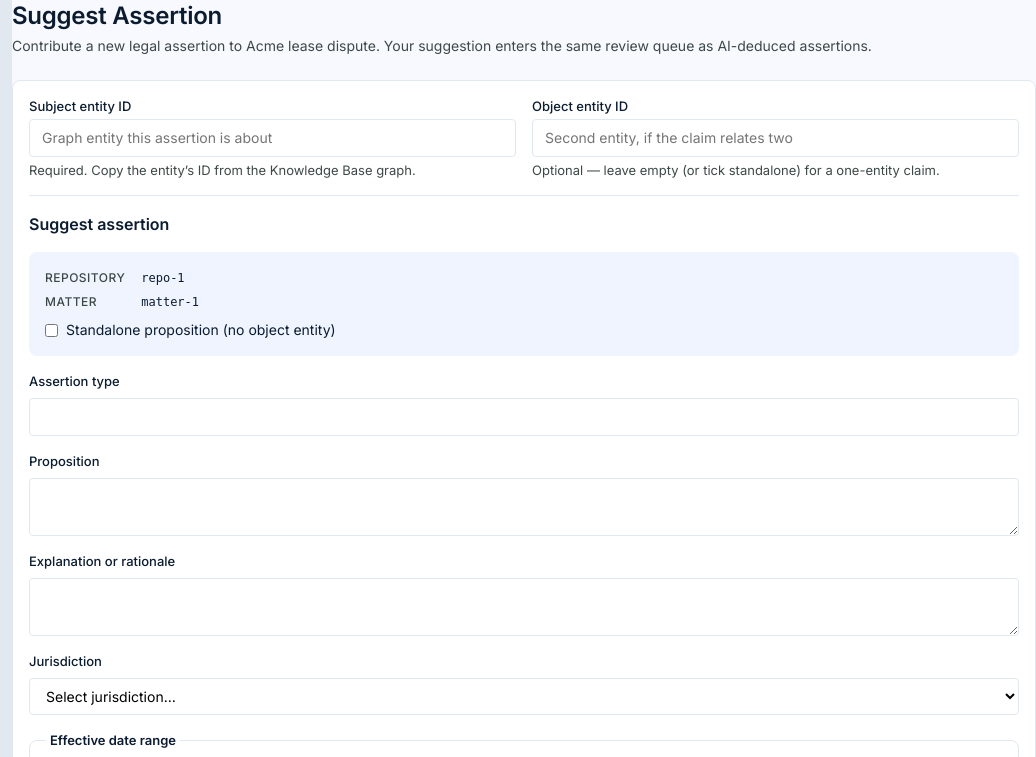
SuggestAssertionPage › shows the backend validation message when the create is rejected
Type "ent-9" into the field labelled "Subject entity ID" at x=272, y=138, box [29, 119, 516, 157]
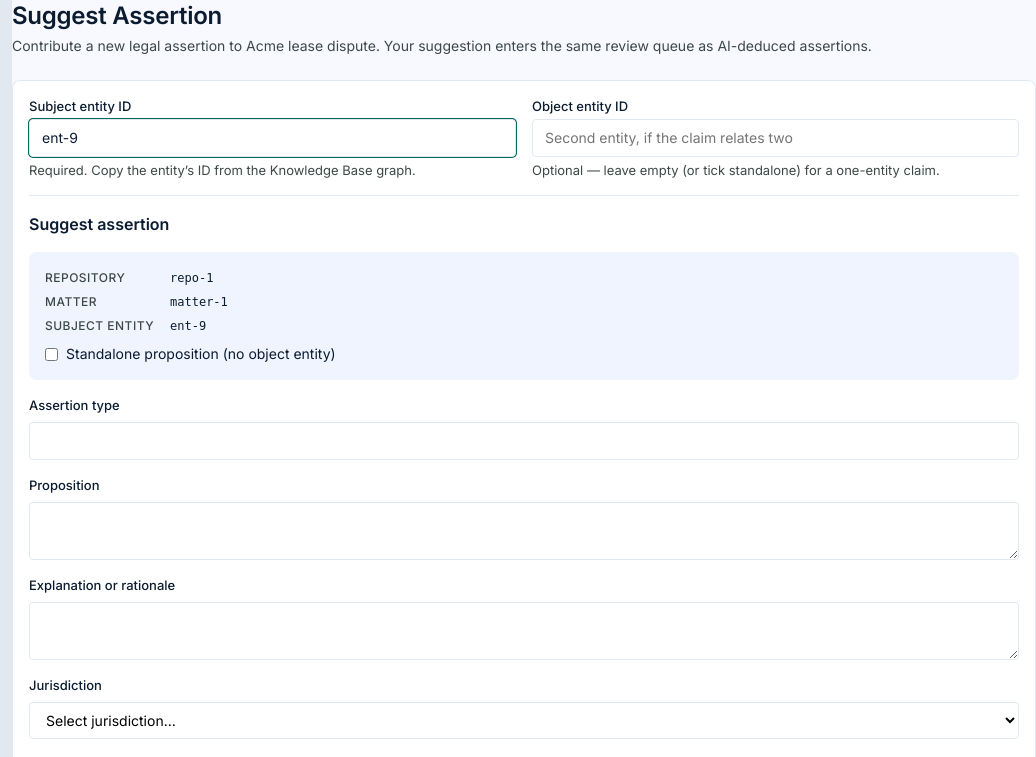
Type "APPLIES_TO" into the field labelled "Assertion type" at x=524, y=441, box [29, 422, 1019, 460]
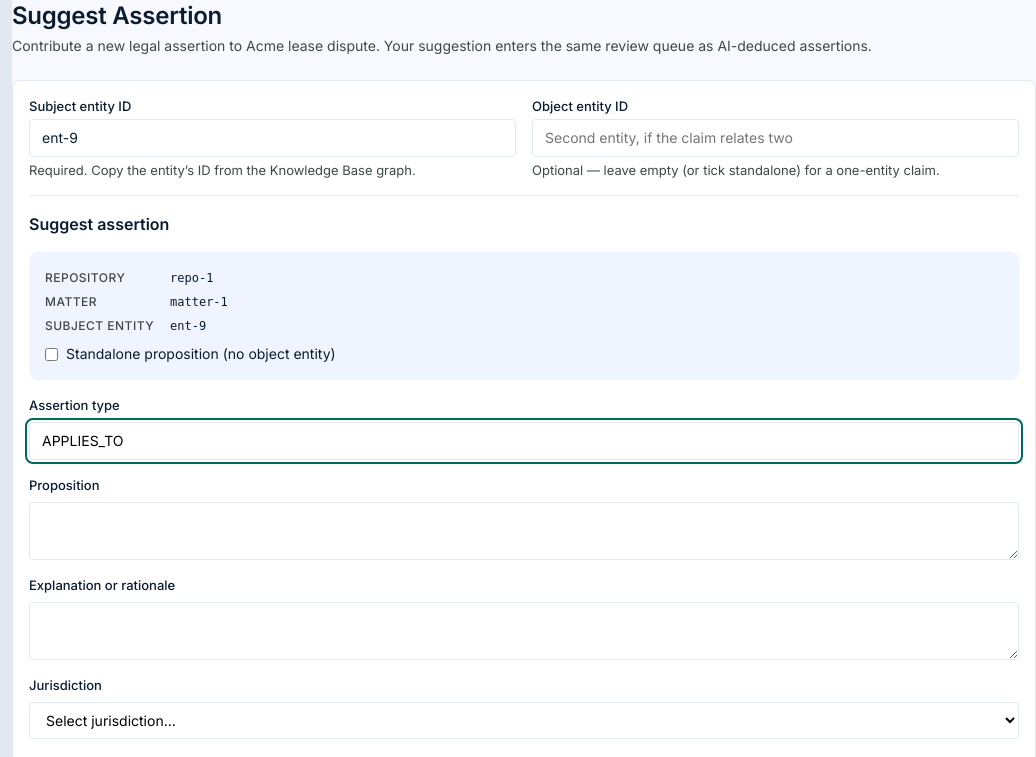
Type "Section 12 applies to subtenants." into the text box labelled "Proposition" at x=524, y=531, box [29, 502, 1019, 560]
(page scrolled)
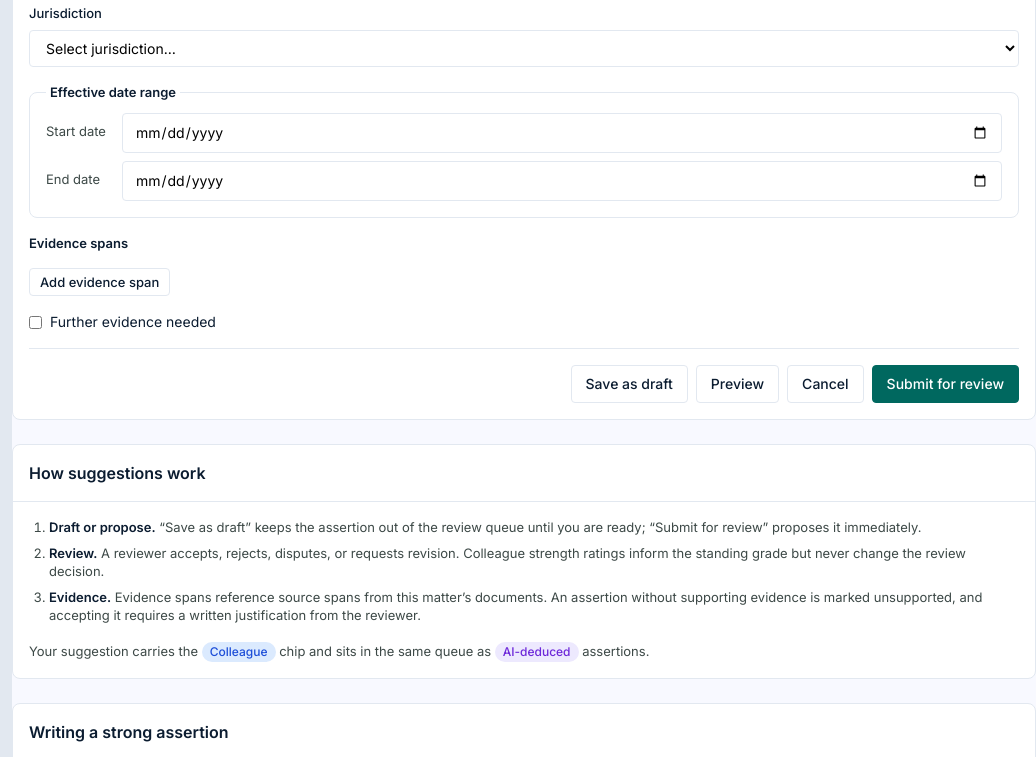
Click the button "Save as draft" at x=629, y=384, box [571, 365, 688, 403]
(page scrolled)
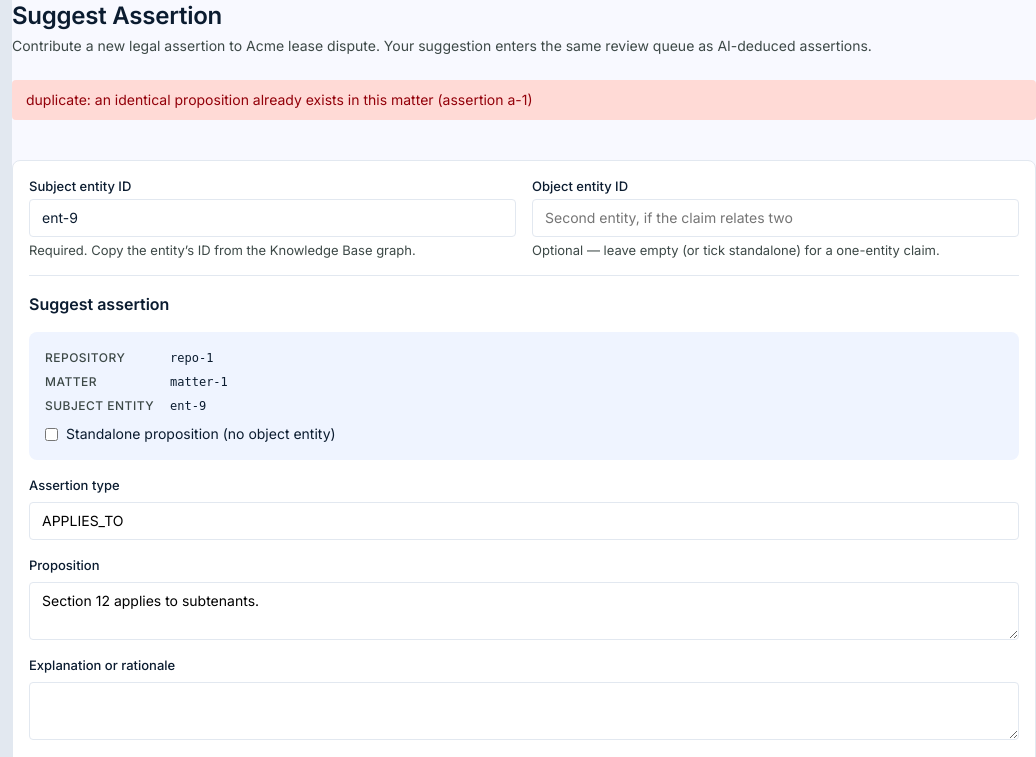
Now the message shows "duplicate: an identical proposition already exists", box [26, 91, 533, 108]
